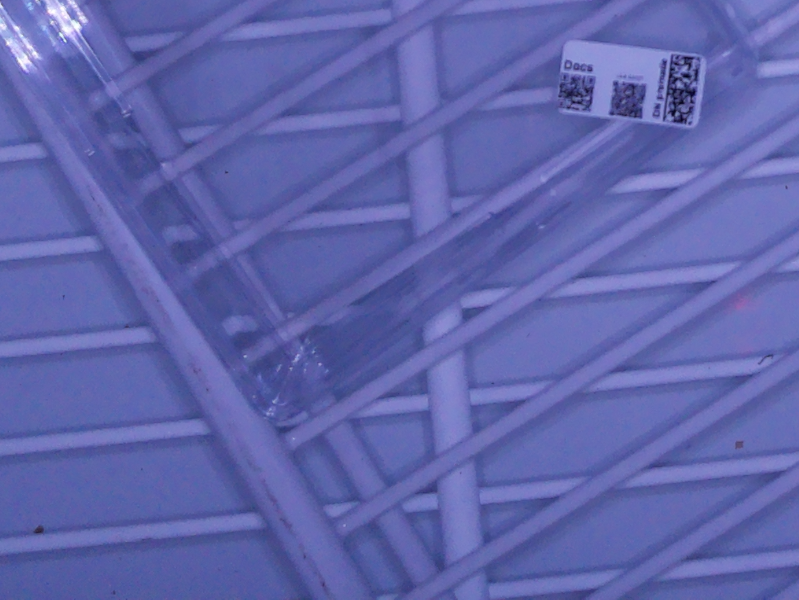plate: (1, 1, 759, 429)
